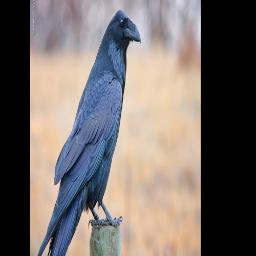Crow: (35, 7, 142, 256)
